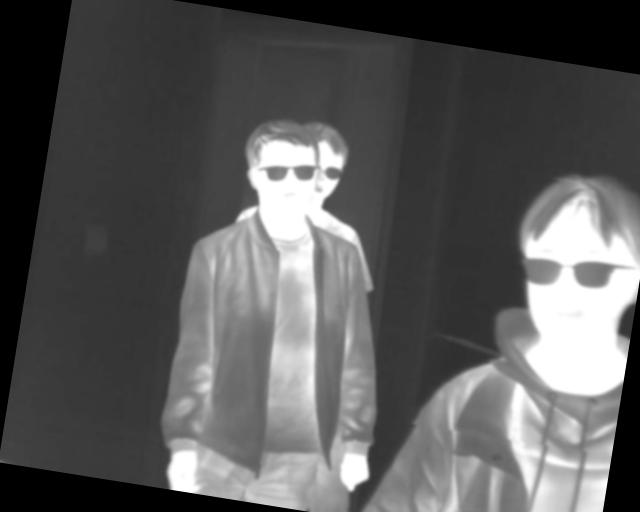face: (503, 161, 640, 354), (234, 112, 325, 228)
